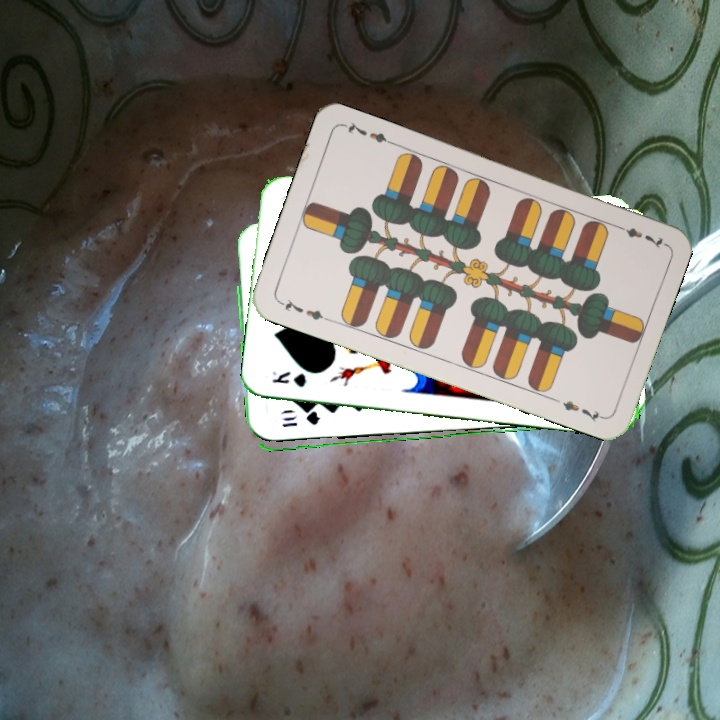E7: (610, 220, 667, 251), (275, 294, 332, 324)
G10: (278, 412, 323, 429)
GK: (268, 367, 309, 390)
